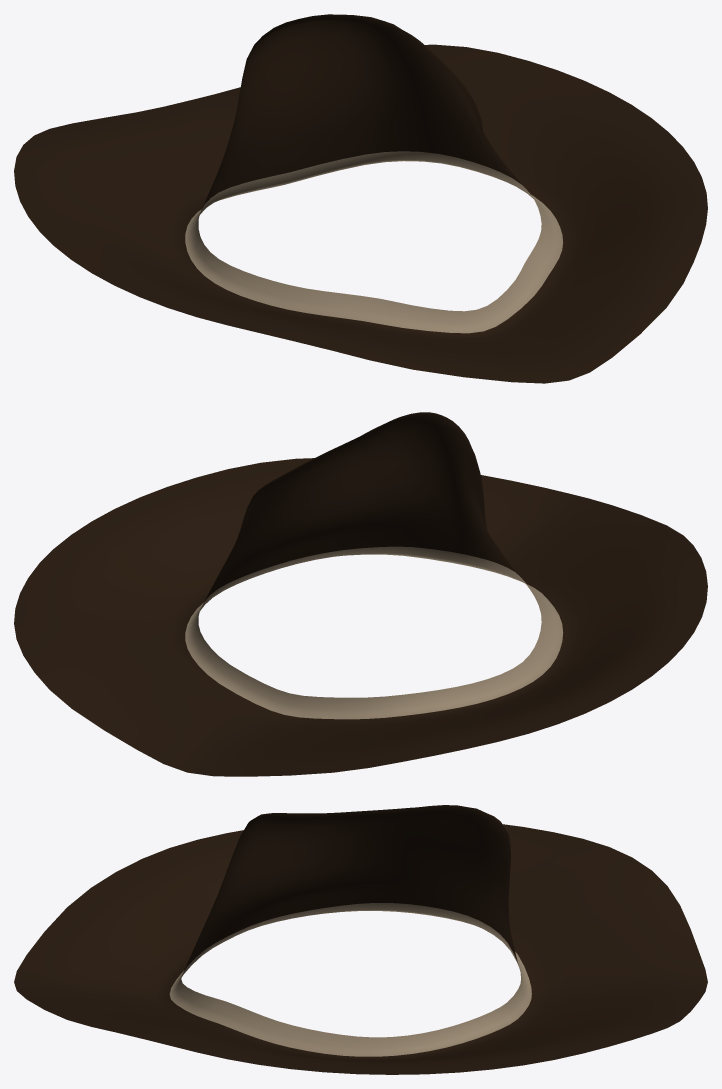
The model's file is cowboyhatFBX.fbx.
The picture shows the model from 3 angles, top to bottom: view 1: azimuth 30°, elevation 25°; view 2: azimuth 150°, elevation 25°; view 3: azimuth 270°, elevation 25°; orthographic projection. The views are drawn at different scales.
Visible parts, largest first — view 1: CowboyHat; view 2: CowboyHat; view 3: CowboyHat.
Part boxes in pixels (x1=…): CowboyHat: x1=14, y1=14, x2=707, y2=383; CowboyHat: x1=14, y1=412, x2=707, y2=776; CowboyHat: x1=14, y1=805, x2=707, y2=1074.
Bounding box in the file's own units: 46.69 × 14.74 × 53.17.
